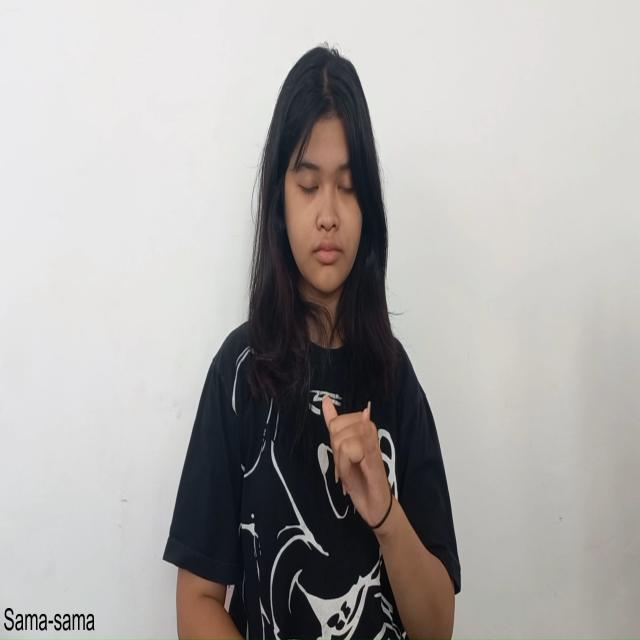Sama-sama -BISINDO-: (322, 396, 396, 536)
